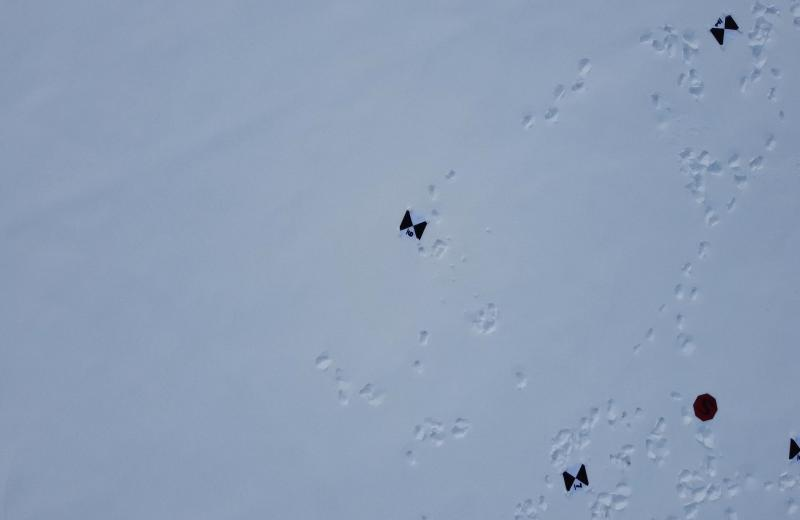Octagon: (691, 390, 722, 424)
